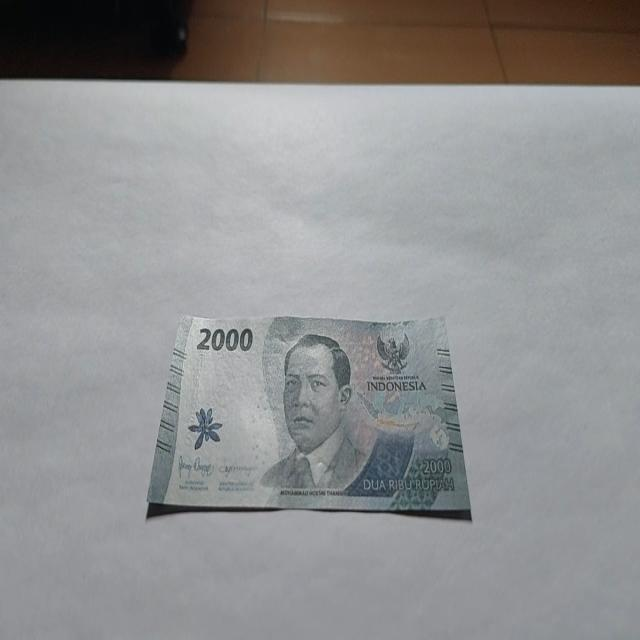dua ribu rupiah: (146, 311, 472, 519), (258, 330, 450, 504)
